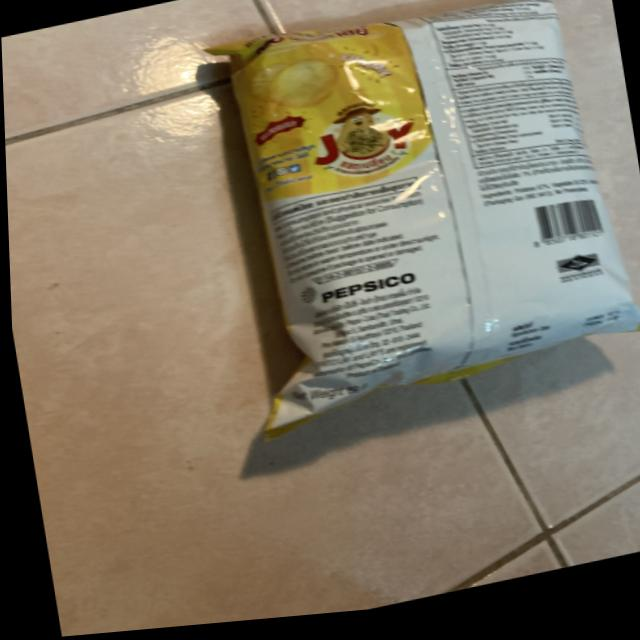LayYellow: (189, 0, 632, 463)
